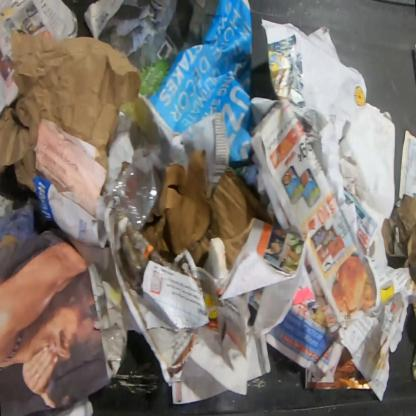cardboard: (139, 150, 274, 271), (380, 194, 415, 298), (0, 235, 19, 248)
rigid_plastic: (111, 135, 159, 231)
